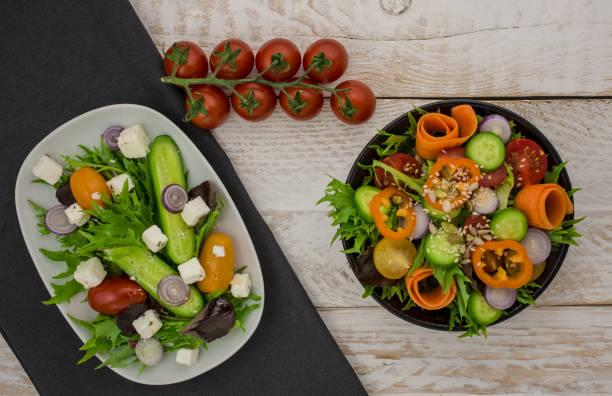Braised Crucian Carp: (16, 103, 266, 388), (339, 100, 574, 331)
